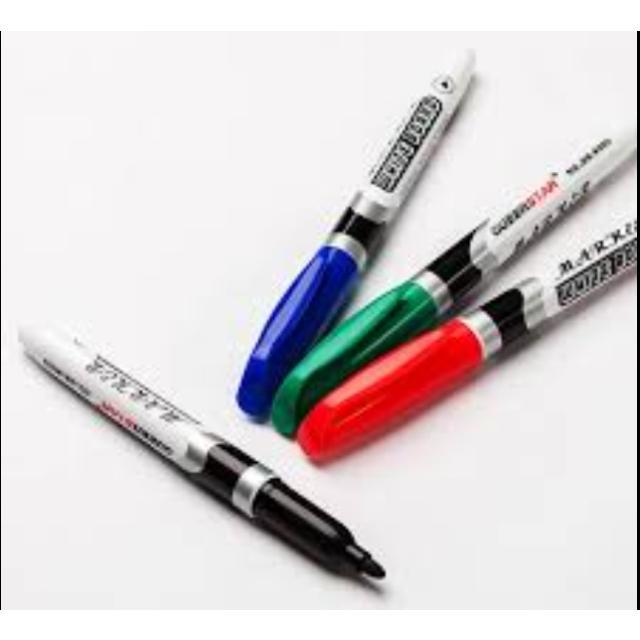marker: (17, 322, 388, 590)
